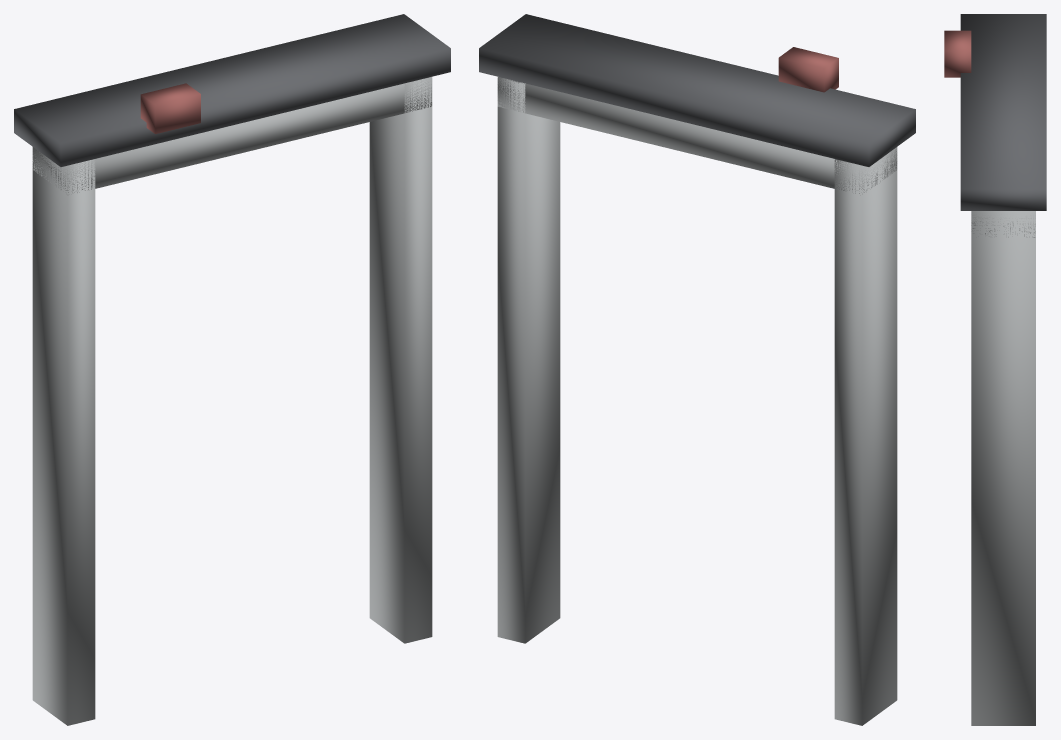
File: doorway_fire_rated_w122_h200_d24.glb
3 views of the same model, side by side, from view 1: azimuth 30°, elevation 25°; view 2: azimuth 150°, elevation 25°; view 3: azimuth 270°, elevation 25° (orthographic). The views are drawn at different scales.
Parts seen in each view (by area): view 1: world; view 2: world; view 3: world.
Boxes of the visible parts, x1,y1,x2,y2 form: world: [14, 14, 450, 725]; world: [479, 14, 915, 725]; world: [944, 14, 1046, 725].
Bounding box in the file's own units: 1.54 × 2.31 × 0.38.
